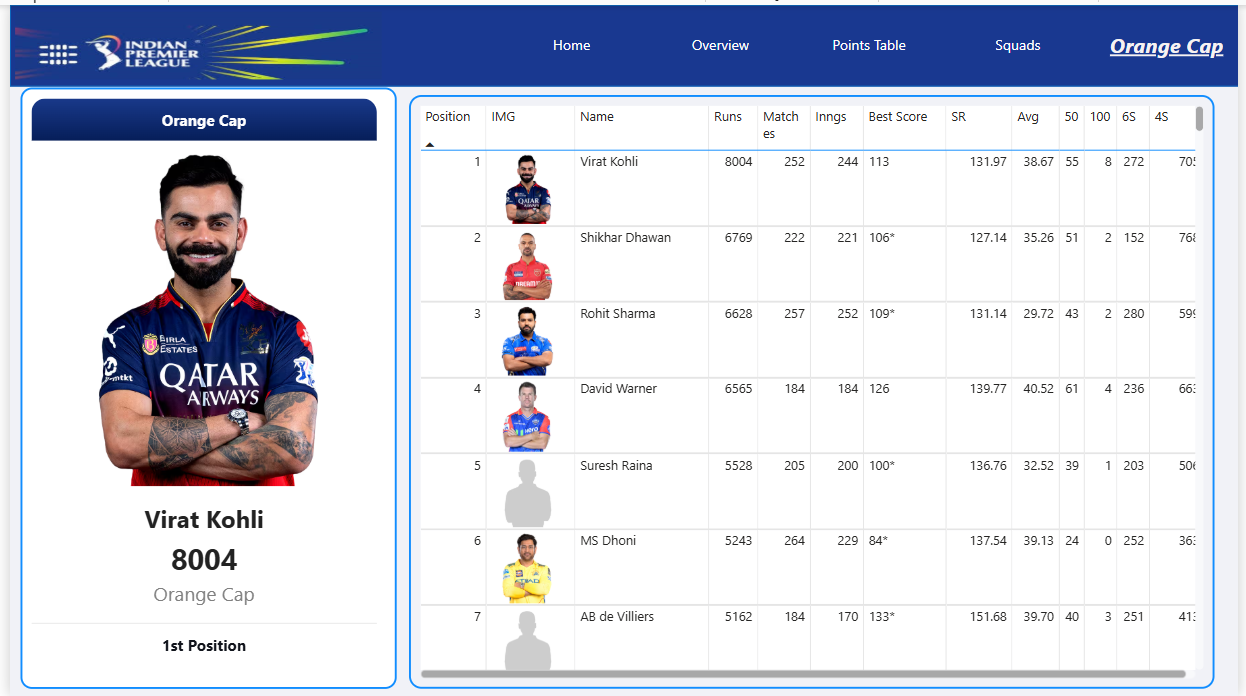

This screenshot's page, from the dashboard's own definition file:
{"tool":"powerbi","page":{"name":"Orange Cap","canvas":[1280,720],"ordinal":4},"visuals":[{"type":"shape","box":[0,0,2000.6,85],"z":0},{"type":"image","box":[0,1.6,392.3,81.3],"z":1000},{"type":"pageNavigator","box":[512.6,14.1,767.4,54.7],"z":2000},{"type":"htmlContent443BE3AD55E043BF878BED274D3A6855","fields":{"content":["Records.Top_Players"]},"box":[10.9,86,392.3,626.8],"z":3000},{"type":"tableEx","fields":{"Values":["Most_runs.Position","Most_runs.IMG","Most_runs.Name","Most_runs.Runs","Most_runs.Mat","Most_runs.Inngs","Most_runs.HS","Most_runs.SR","Most_runs.Avg","Most_runs.50","Most_runs.100","Most_runs.6S"]},"box":[415.8,93.8,839.3,618.9],"z":4000}]}

Visuals, with their boxes in screenshot pixels (x1, y1, x2, y2), scaled from the page's 1280x720 canvas onto the 1246x696 screenshot:
shape: (0, 0, 1245, 82)
image: (0, 2, 382, 80)
pageNavigator: (499, 14, 1245, 67)
htmlContent443BE3AD55E043BF878BED274D3A6855 - Records.Top_Players: (11, 83, 392, 689)
tableEx - Most_runs.Position x Most_runs.IMG: (405, 91, 1222, 689)
